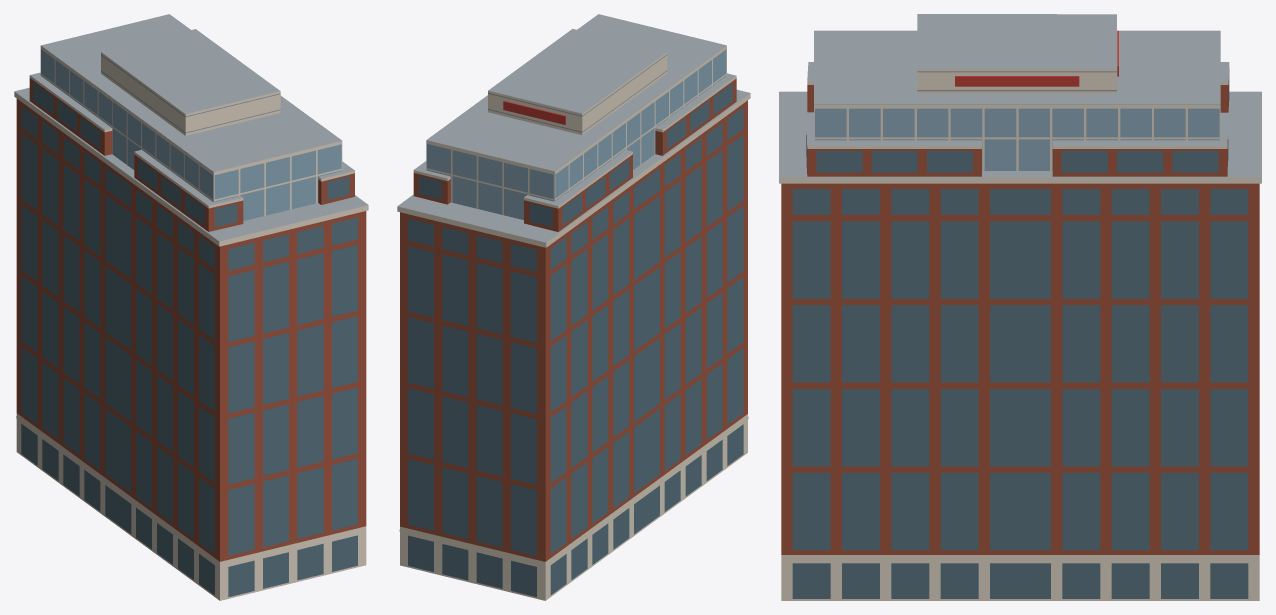
File: clt-honeywell-tower.glb
3 views of the same model, side by side, from view 1: azimuth 30°, elevation 25°; view 2: azimuth 150°, elevation 25°; view 3: azimuth 270°, elevation 25° (orthographic). The views are drawn at different scales.
Parts seen in each view (by area): view 1: Honeywell Tower; view 2: Honeywell Tower; view 3: Honeywell Tower.
Boxes of the visible parts, x1,y1,x2,y2 form: Honeywell Tower: [14, 14, 368, 600]; Honeywell Tower: [397, 14, 750, 600]; Honeywell Tower: [779, 14, 1261, 600].
Bounding box in the file's own units: 36 × 101 × 85.6.
